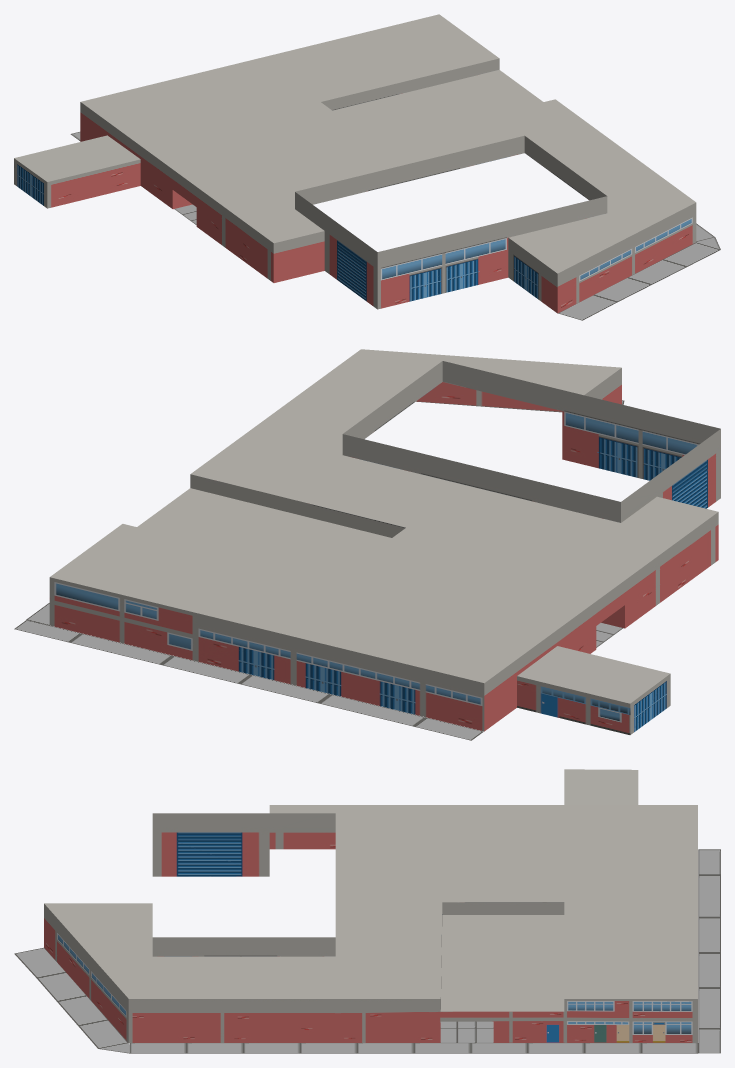
The model's file is EDIF_18.fbx.
3 renders of one model, top to bottom at view 1: azimuth 30°, elevation 25°; view 2: azimuth 150°, elevation 25°; view 3: azimuth 270°, elevation 25°, orthographic. The views are drawn at different scales.
Visible parts, largest first — view 1: edif_18; view 2: edif_18; view 3: edif_18.
Part boxes in pixels (box(x1,y1,x2,y2)): edif_18: box(14, 14, 720, 320); edif_18: box(14, 349, 720, 740); edif_18: box(14, 769, 720, 1053).
Size of the model in its own units: 10048 by 1167 by 11779.
